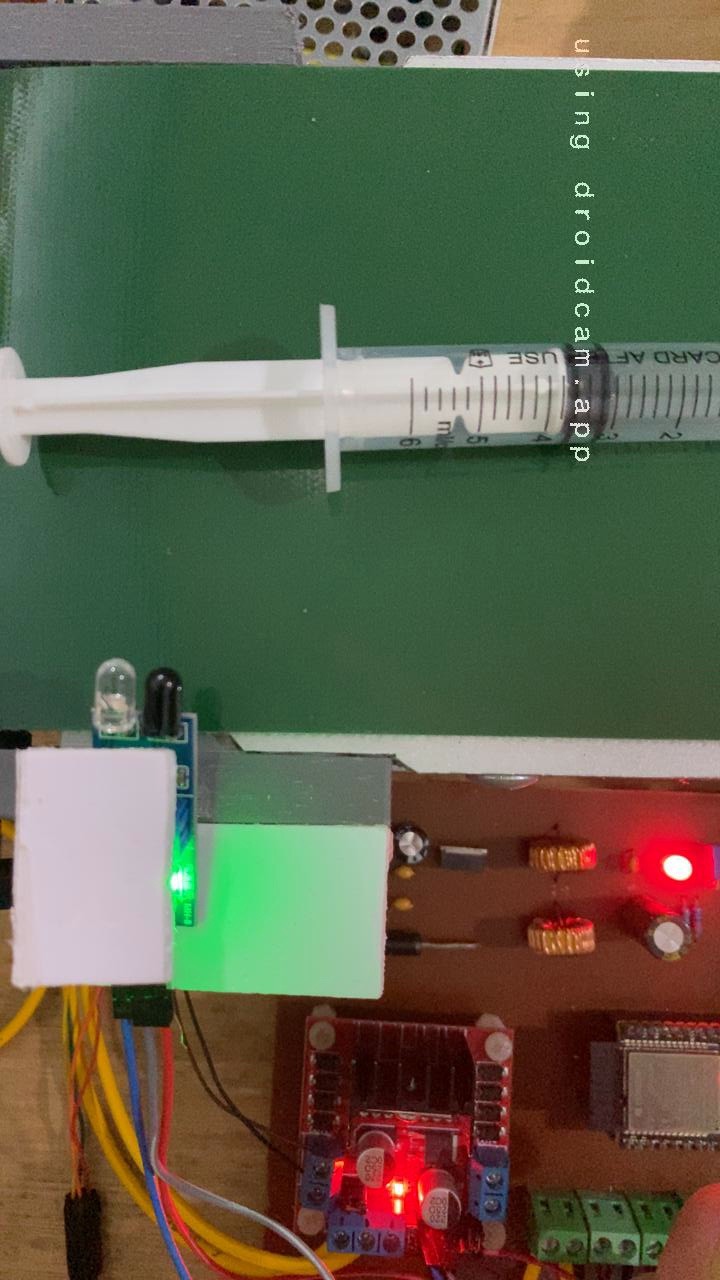syringe: (0, 298, 720, 500)
